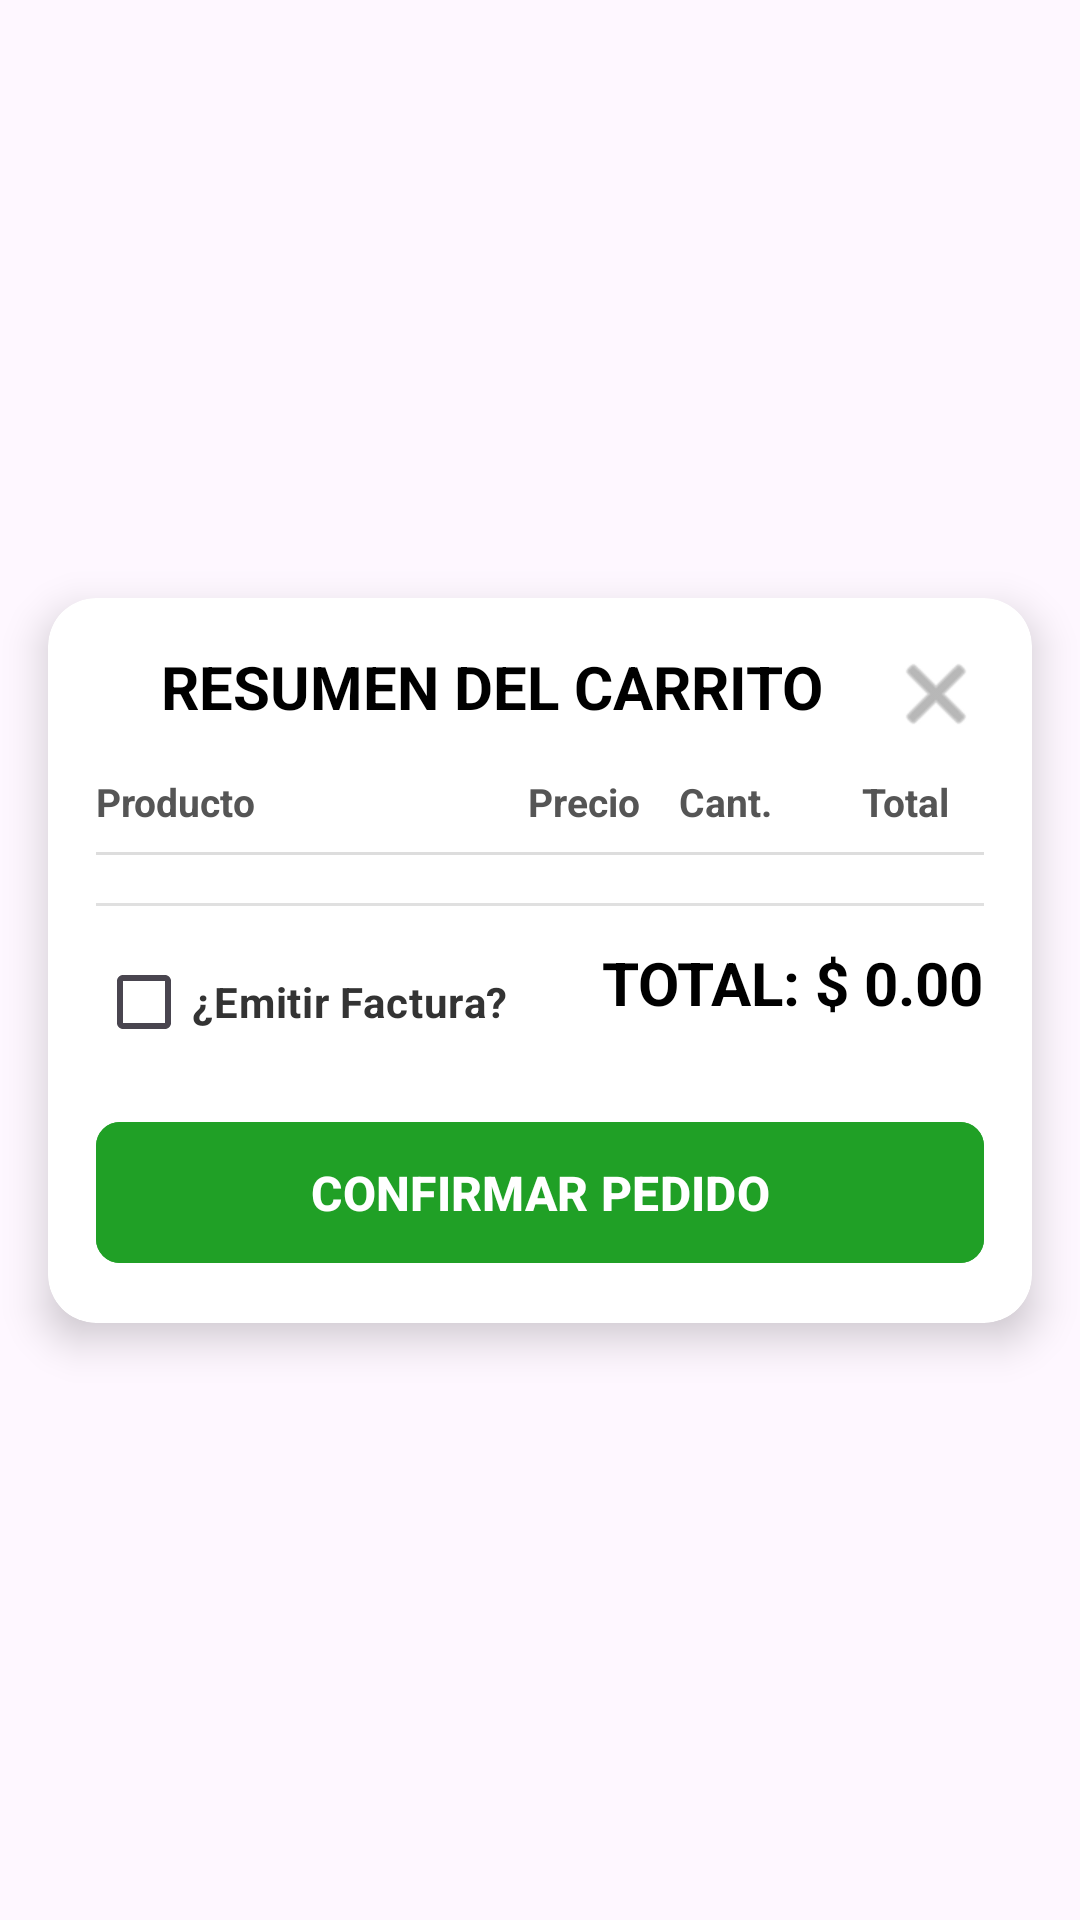

Icons on this 1080*1920 Android screen, each with its box as region(x1, y1, x2, y2):
close clear cancel: region(907, 665, 965, 723)
